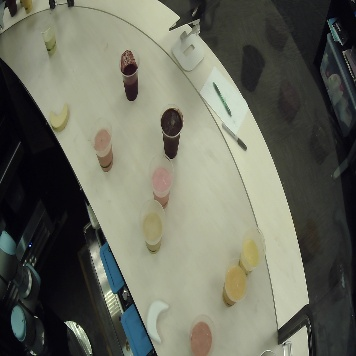full_cup: (236, 224, 268, 278), (220, 257, 252, 311), (116, 47, 145, 102), (156, 106, 185, 161), (88, 117, 117, 172), (147, 154, 176, 209), (137, 200, 166, 255), (186, 312, 218, 356), (38, 16, 64, 57), (3, 1, 18, 17), (21, 1, 35, 16)
puck: (148, 297, 167, 344), (49, 100, 68, 135)
